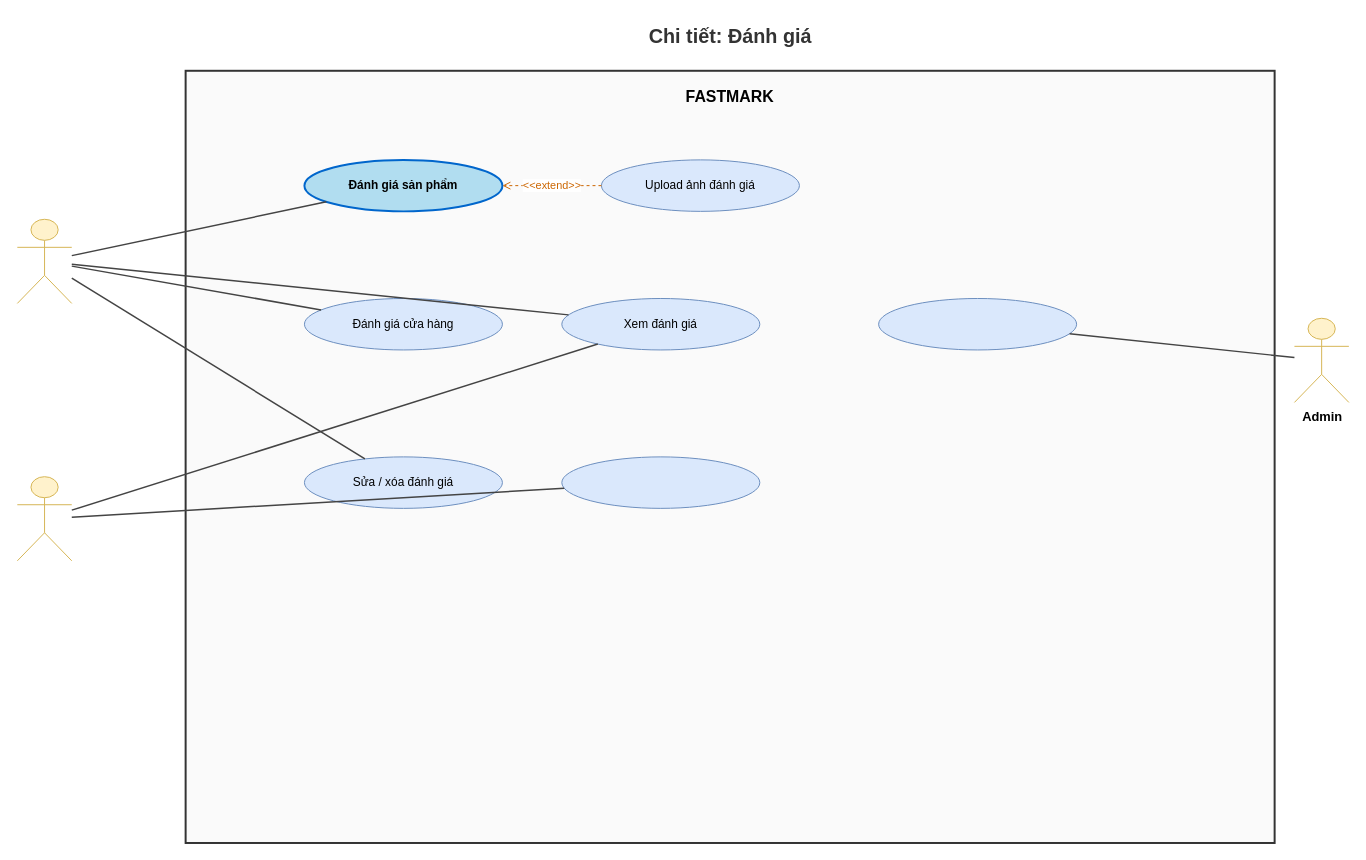
This 1366x860 diagram has some shape labels left out. Here are the shapes that lost their labels. From the top down, the centre of each, then its label:
At (44,260): "User".
At (977,323): "Kiểm duyệt đánh giá".
At (660,482): "Phản hồi đánh giá".
At (44,518): "Seller".
